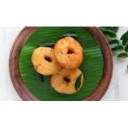vada: (51, 63, 82, 93), (55, 37, 84, 66), (31, 47, 60, 75)
